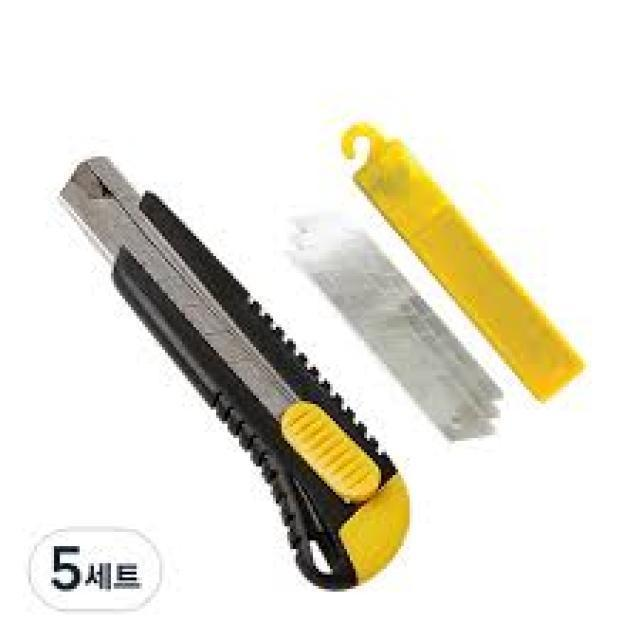cutter: (43, 138, 420, 606)
